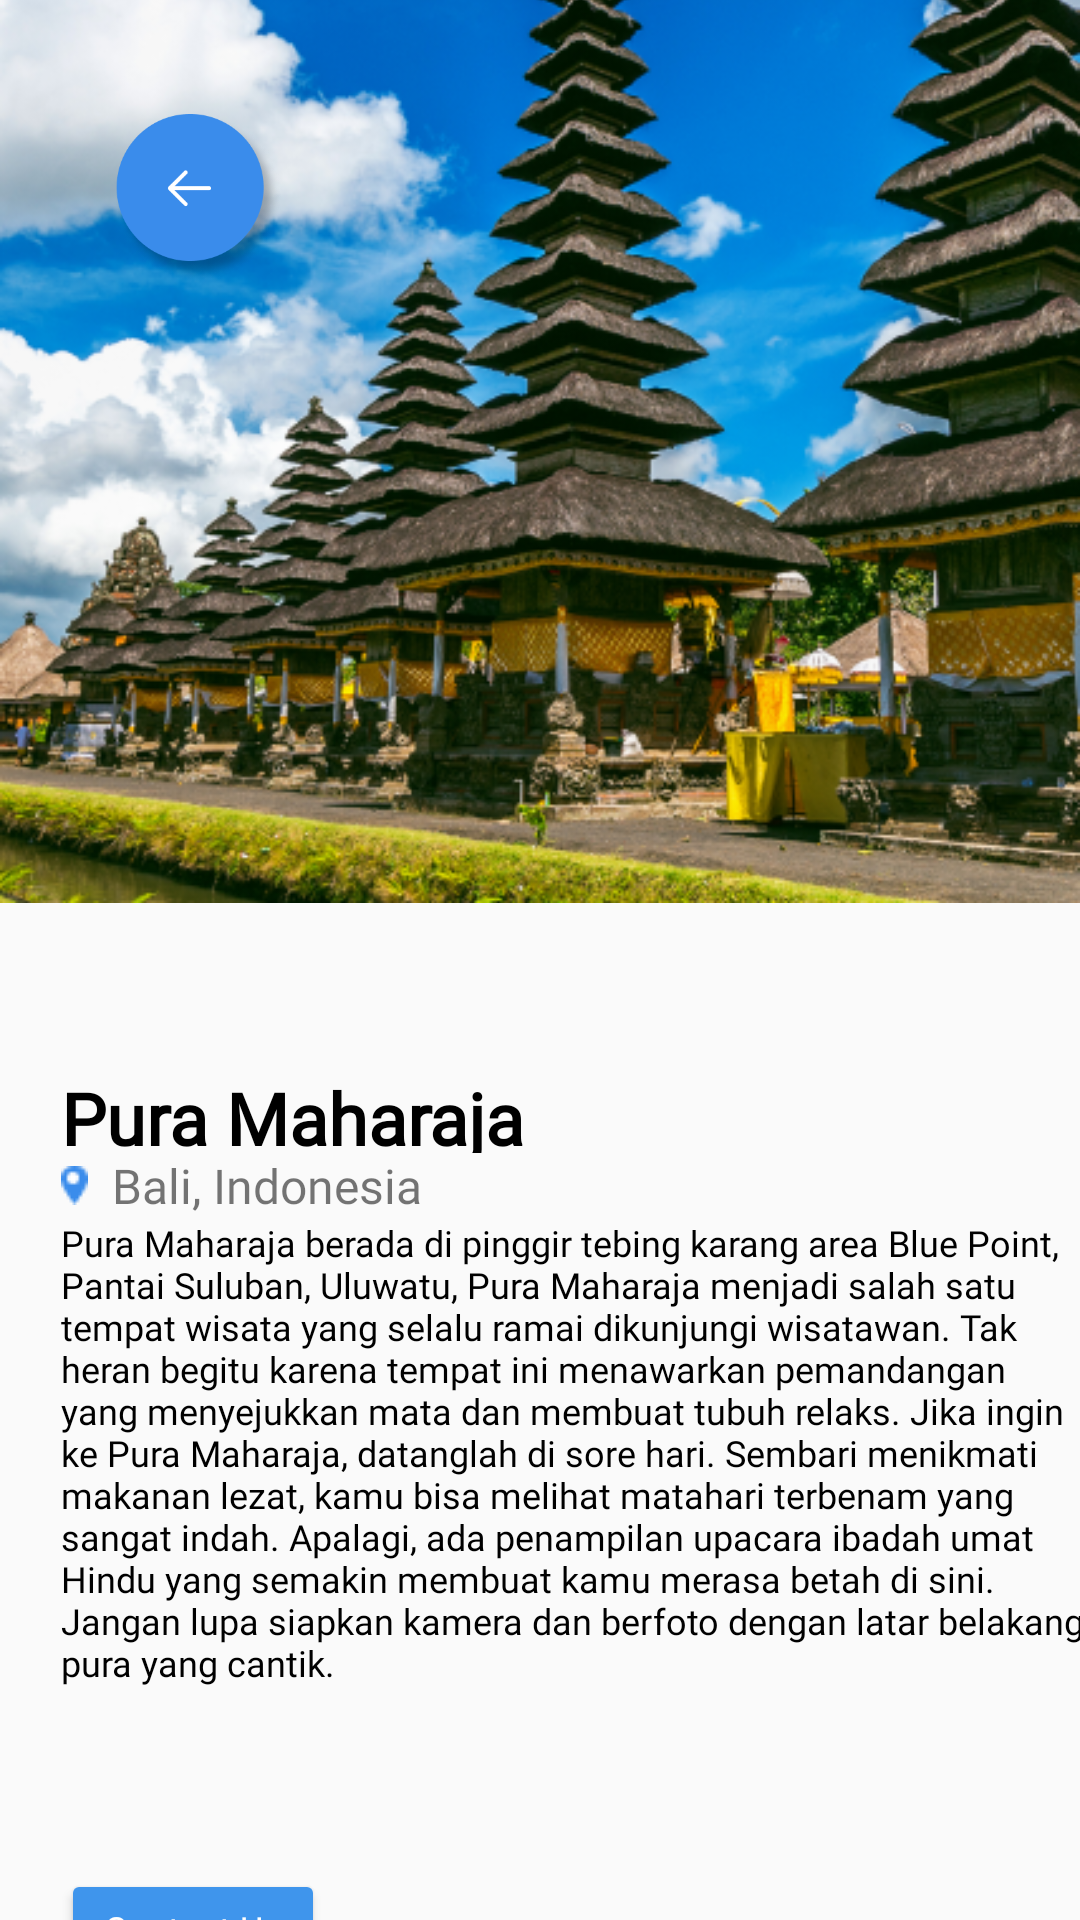

Point at icon controls on the screen. Image size 1080×1920, points as (x,y).
back: (198,198)
